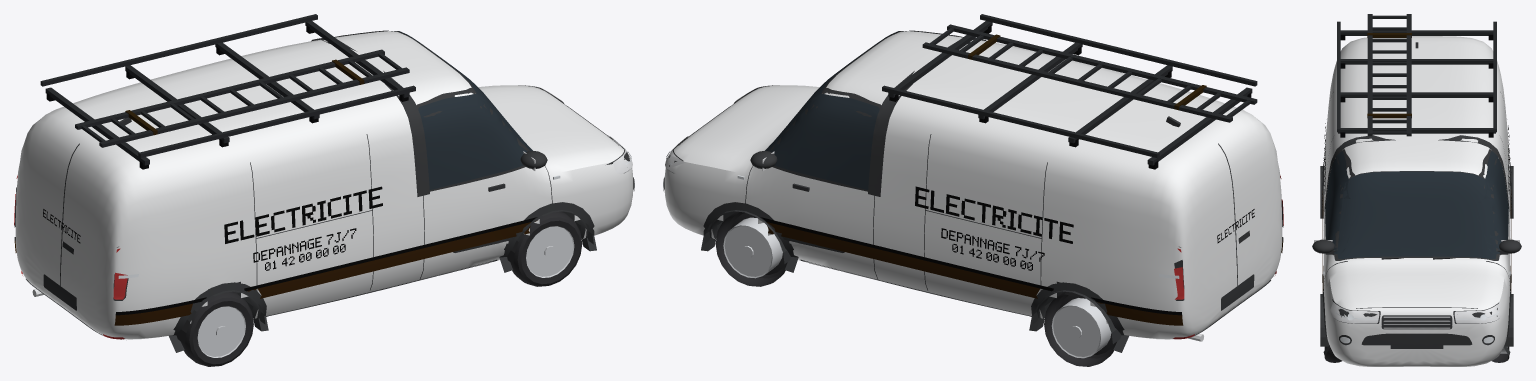
The model's file is pro_elec.glb.
3 views of the same model, side by side, from view 1: azimuth 30°, elevation 25°; view 2: azimuth 150°, elevation 25°; view 3: azimuth 270°, elevation 25° (orthographic). The views are drawn at different scales.
Parts seen in each view (by area): view 1: Body, Glass-1, ProStripe-1, WheelRR, WheelFR, LadderRail-1, LadderRail1, RackRail1, RackRail-1, ProAccent-1, Bpillar-1, ArchTrim-1.001 (+7 smaller); view 2: Body, Glass1, ProStripe1, WheelFL, WheelRL, LadderRail1, LadderRail-1, RackRail1, RackRail-1, ProAccent1, Bpillar1, ArchTrim1.001 (+7 smaller); view 3: Body, Windshield, Glass1, Glass-1, Intake, HeadReflector, Grille, RackBar-0.55, RackBar0.3, RackBar-1.4, RackBar-2.15, LadderRail1 (+17 smaller).
Boxes of the visible parts, box(x1,y1,x2,y2) form: Body: box(15, 31, 633, 339); Glass-1: box(418, 93, 532, 189); ProStripe-1: box(114, 220, 537, 325); WheelRR: box(180, 291, 253, 366); WheelFR: box(510, 211, 582, 286); LadderRail-1: box(99, 67, 409, 147); LadderRail1: box(75, 49, 384, 129); RackRail1: box(40, 14, 317, 86); RackRail-1: box(138, 85, 415, 158); ProAccent-1: box(115, 217, 537, 315); Bpillar-1: box(383, 71, 429, 196); ArchTrim-1.001: box(169, 282, 268, 352); Body: box(664, 31, 1282, 339); Glass1: box(765, 93, 879, 189); ProStripe1: box(767, 222, 1183, 325); WheelFL: box(715, 211, 787, 286); WheelRL: box(1044, 291, 1116, 366); LadderRail1: box(922, 42, 1232, 122); LadderRail-1: box(947, 24, 1257, 104); RackRail1: box(882, 85, 1159, 158); RackRail-1: box(980, 14, 1257, 86); ProAccent1: box(760, 217, 1181, 315); Bpillar1: box(868, 71, 914, 196); ArchTrim1.001: box(1029, 282, 1128, 352); Body: box(1323, 36, 1510, 366); Windshield: box(1337, 171, 1496, 259); Glass1: box(1473, 151, 1508, 253); Glass-1: box(1325, 151, 1357, 253); Intake: box(1361, 333, 1472, 345); HeadReflector: box(1330, 302, 1501, 323); Grille: box(1381, 315, 1452, 329); RackBar-0.55: box(1340, 92, 1493, 97); RackBar0.3: box(1338, 128, 1495, 133); RackBar-1.4: box(1340, 59, 1493, 64); RackBar-2.15: box(1340, 30, 1493, 35); LadderRail1: box(1406, 14, 1411, 136).
Size of the model in its own units: 5.02 by 2.06 by 2.15.
